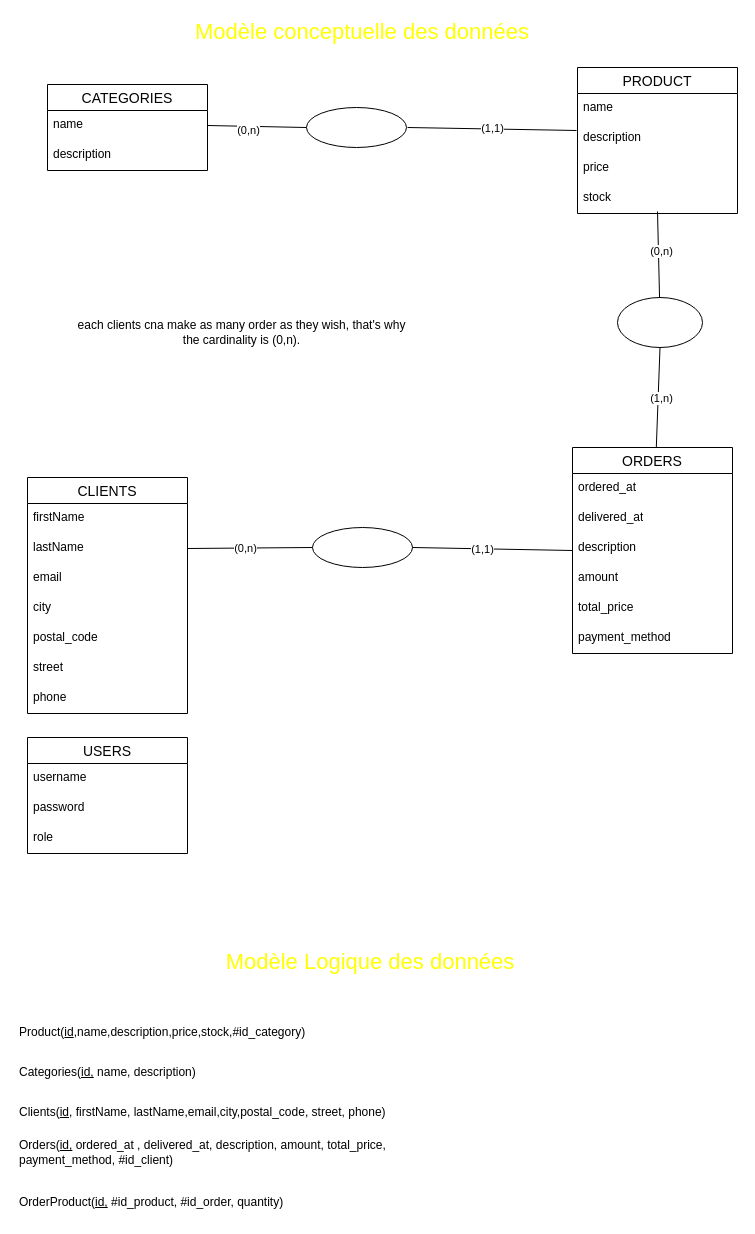
Some shapes in this 755 by 1234 pixel diagram are drawn without their labels. The centre of each missing label's shape, as x and y in pixels:
included in: pixel 659 322
is arranged in: pixel 356 127
TAKE AN: pixel 362 547
